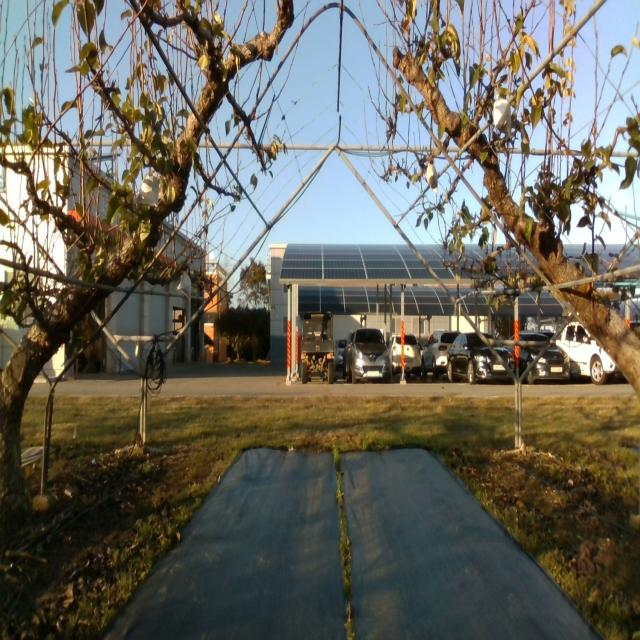pearbags: (134, 167, 160, 207), (494, 93, 512, 140), (177, 269, 191, 301), (426, 163, 438, 195)
